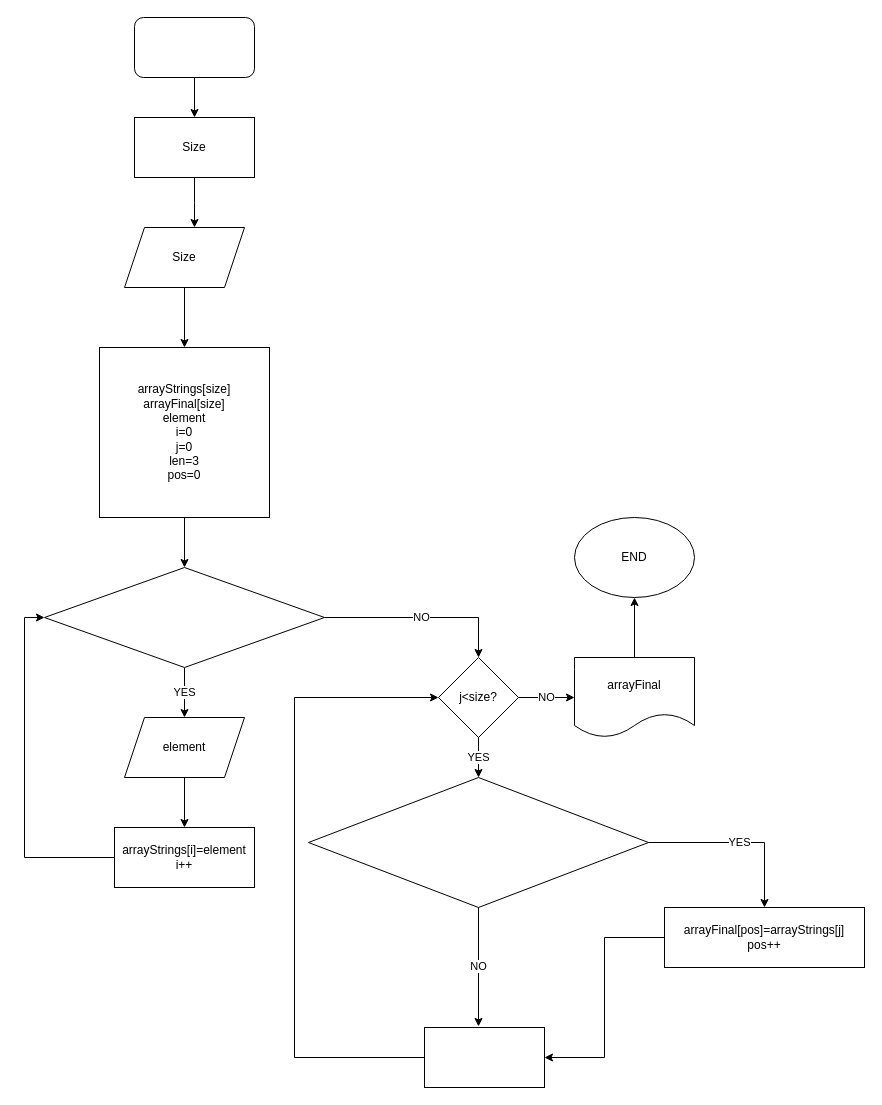
Some shapes in this 882 by 1105 pixel diagram are drawn without their labels. Each missing label, with the box of its shape:
arrayStrings[j].Lenght<=len?: (308, 776, 648, 908)
i<size?: (44, 566, 324, 668)
j++: (424, 1026, 544, 1088)
START: (134, 16, 254, 78)
